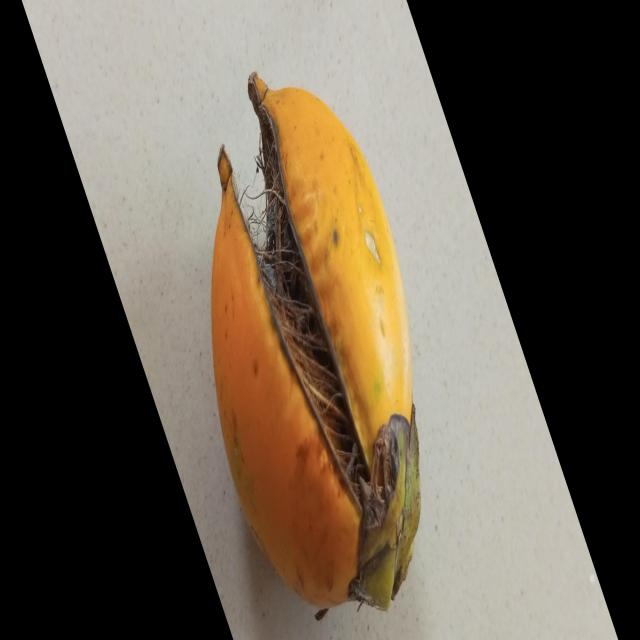damaged: (212, 73, 420, 619)
